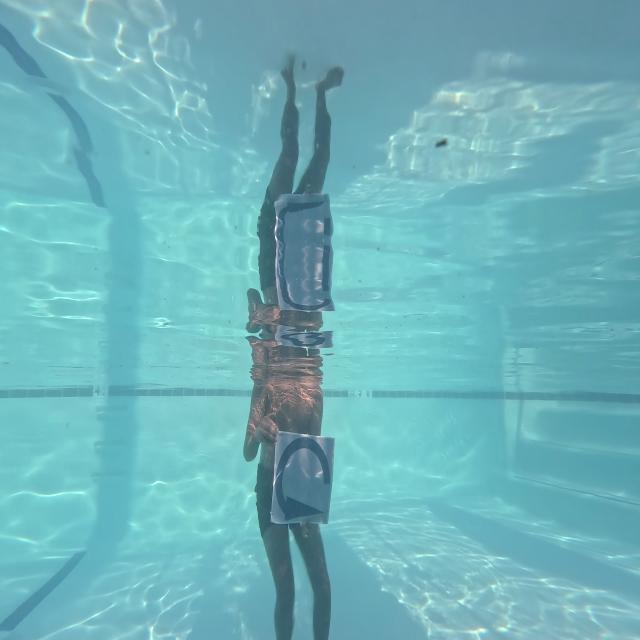blue_side: (273, 433, 333, 532)
